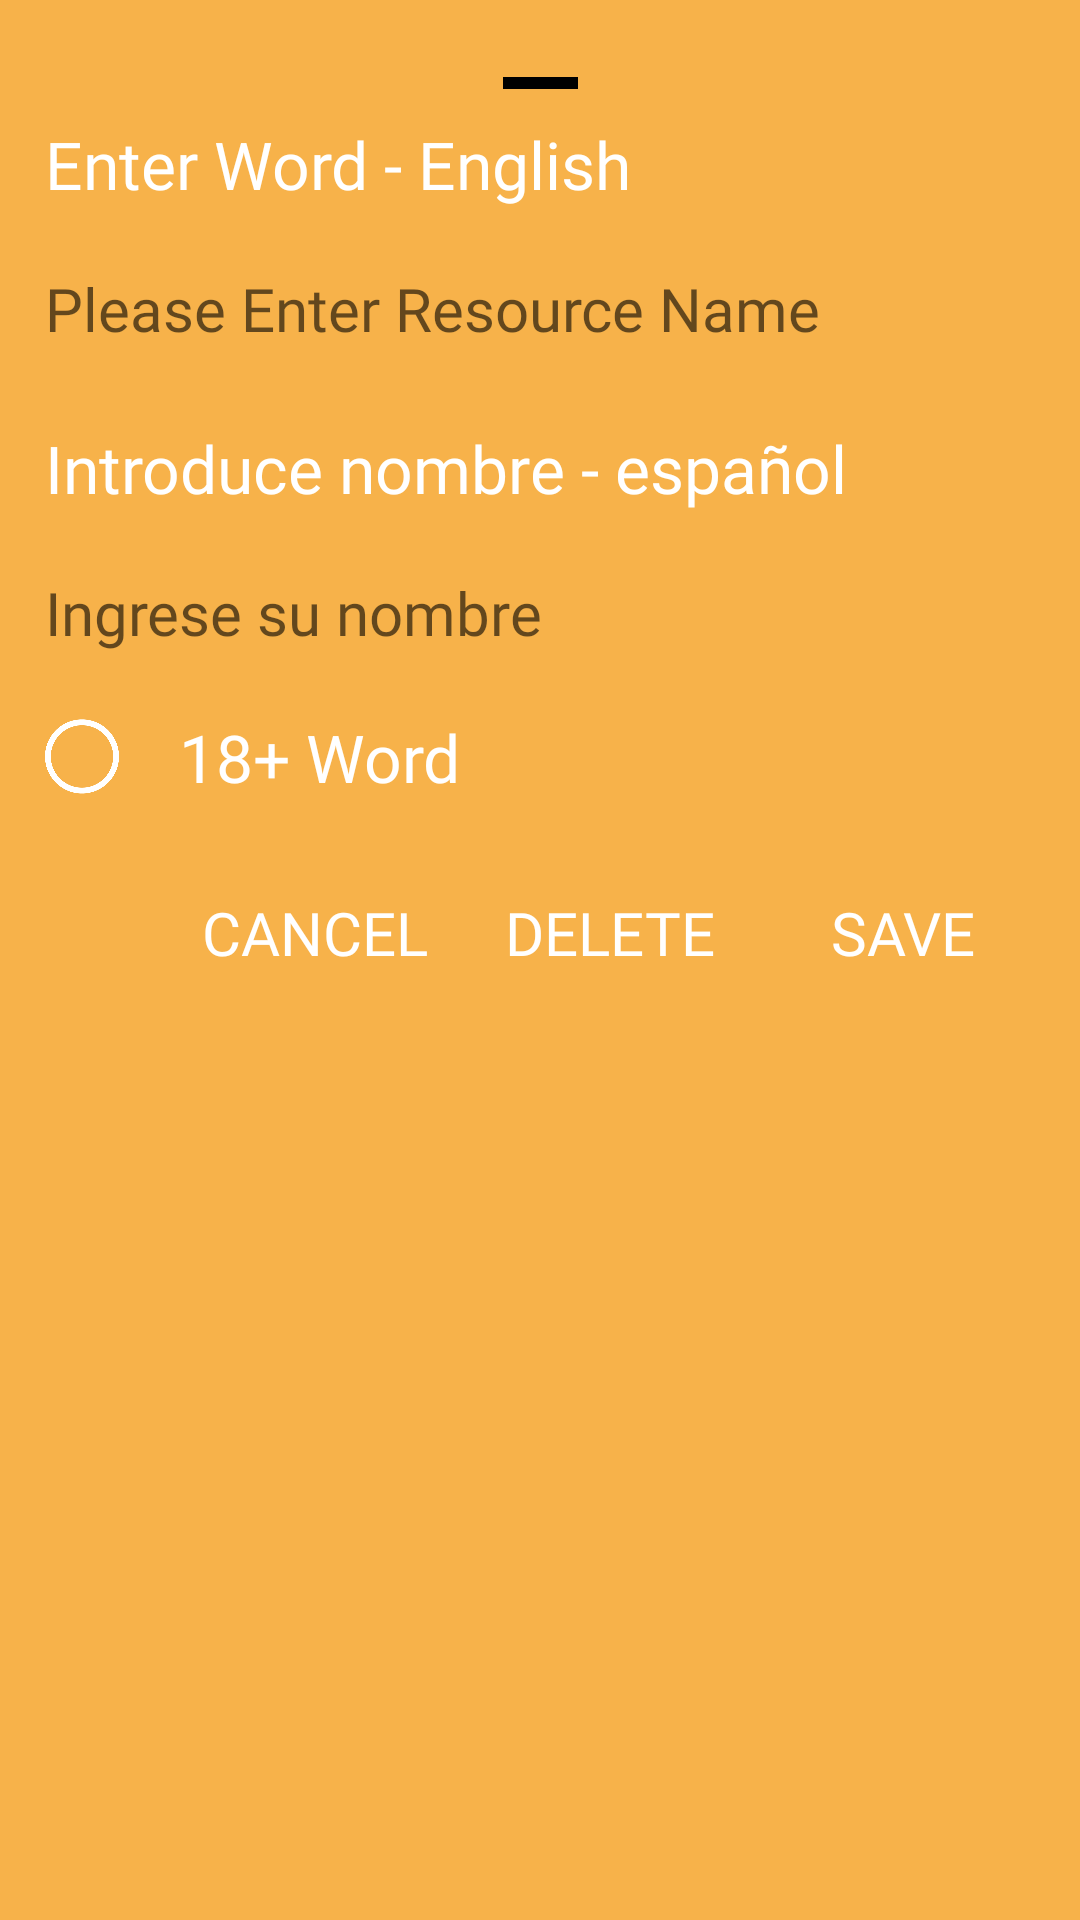

Icon bounding boxes for this 1080*1920 phone screenshot, format [x1,y1,x2,y2]:
uncheck: [45,719,119,794]
